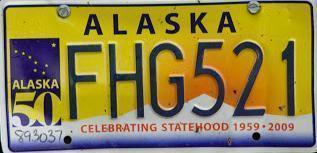placa de veiculo: (1, 6, 311, 146)
